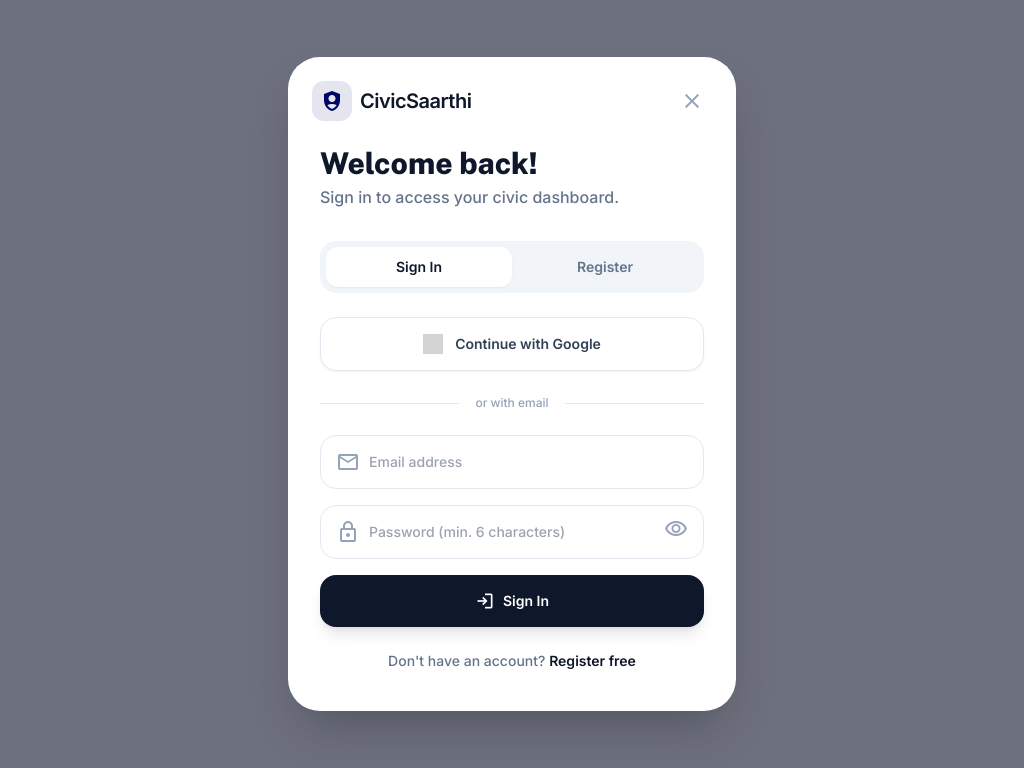
it: AuthModal › displays error message on login failure
Type "wrong@example.com" into the field labelled "Email address".
click(512, 462); type("wrong@example.com")  # box [320,435,704,489]
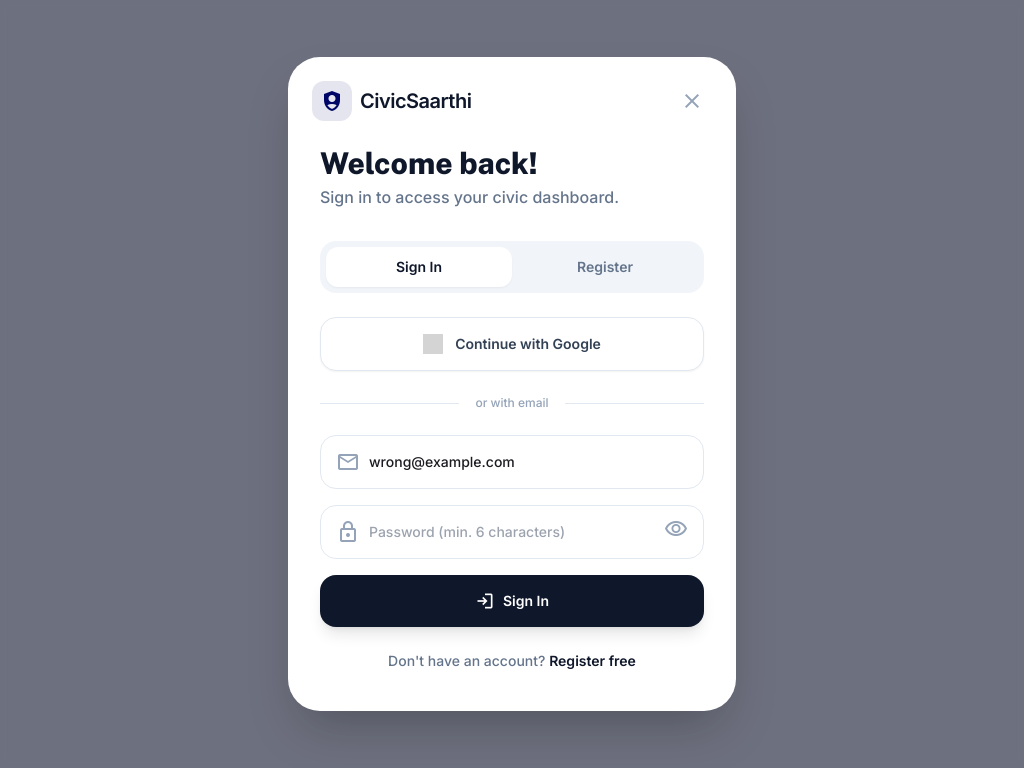
Type "wrongpassword" into the password field labelled "Password (min. 6 characters)".
click(512, 532); type("wrongpassword")  # box [320,505,704,559]
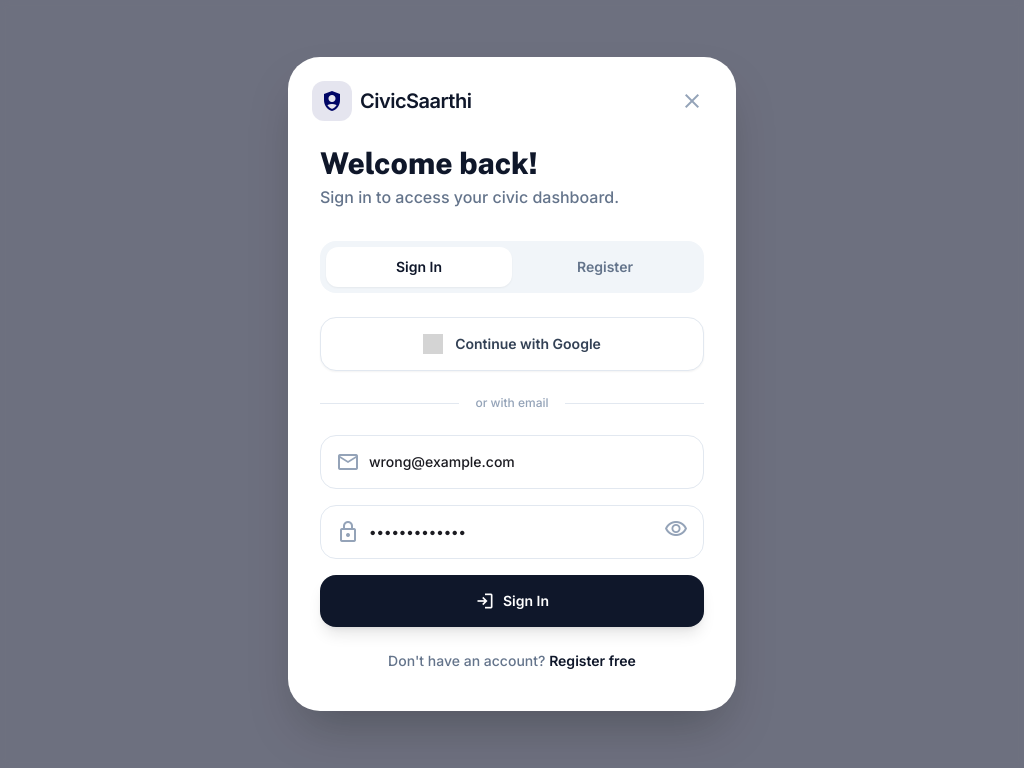
Click the button "Sign In".
click(512, 601)  # box [320,575,704,627]
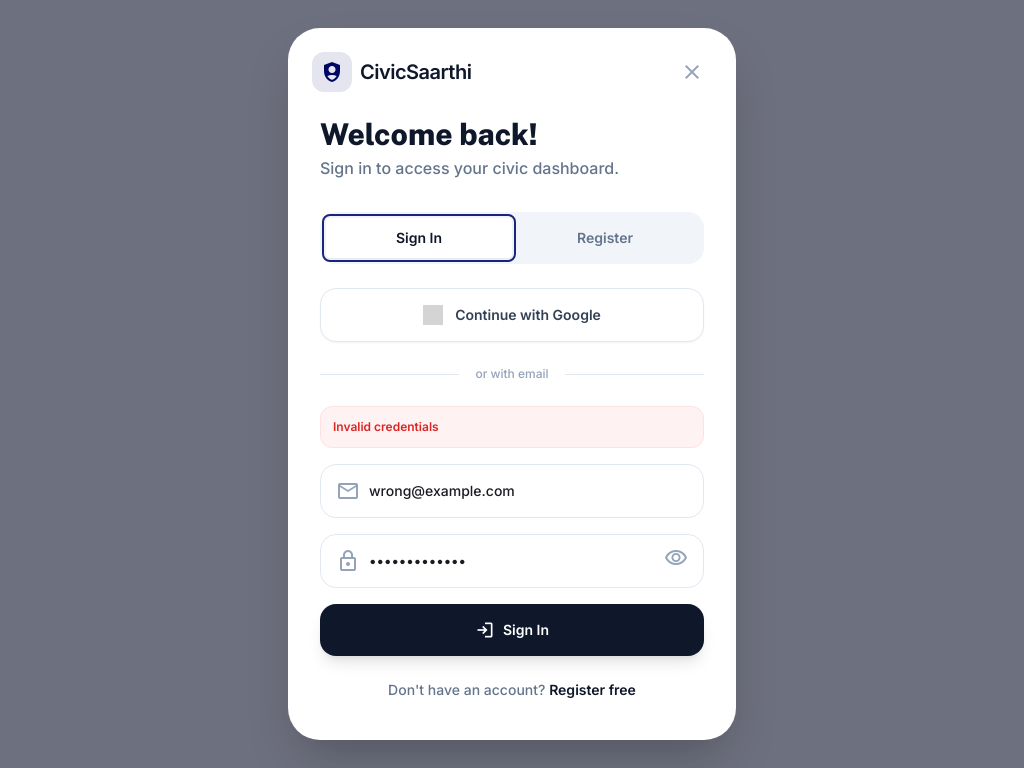
Check: the text "Invalid credentials" is shown, box [320,406,704,448]
